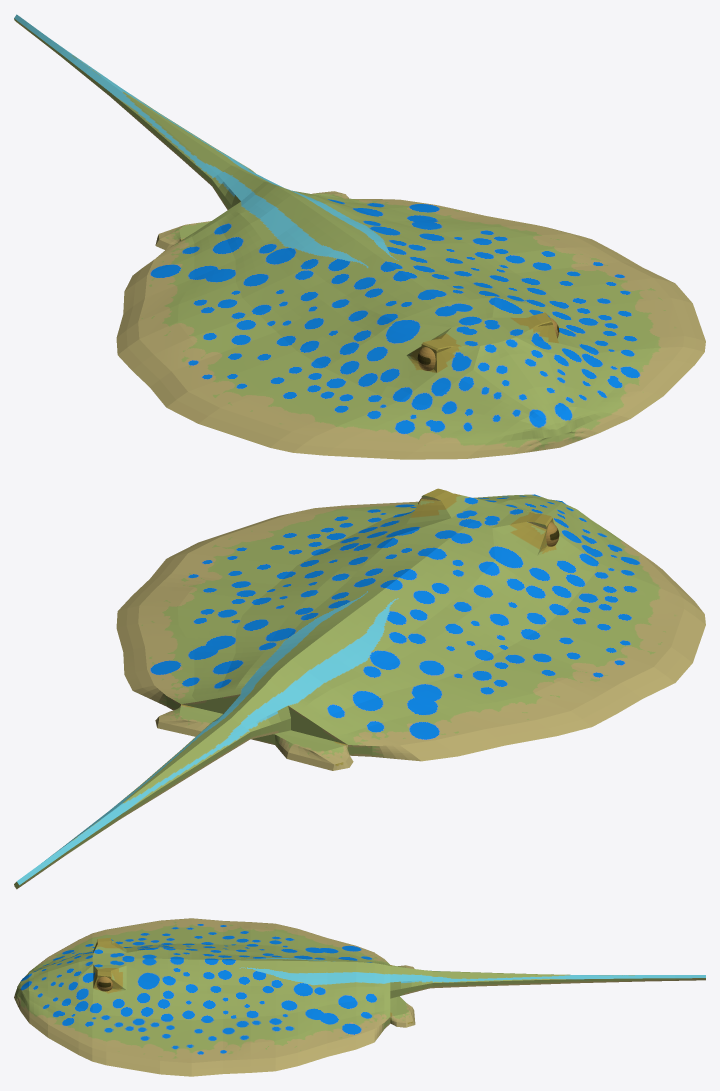
Rendered from stingray 1.fbx.
3 views of the same model, one above another, from view 1: azimuth 30°, elevation 25°; view 2: azimuth 150°, elevation 25°; view 3: azimuth 270°, elevation 25° (orthographic). The views are drawn at different scales.
Visible parts, largest first — view 1: Cube; view 2: Cube; view 3: Cube.
Boxes of the visible parts, x1,y1,x2,y2 form: Cube: (14, 14, 705, 459); Cube: (14, 488, 705, 889); Cube: (14, 918, 705, 1076).
Bounding box in the file's own units: 178 × 21.55 × 328.
